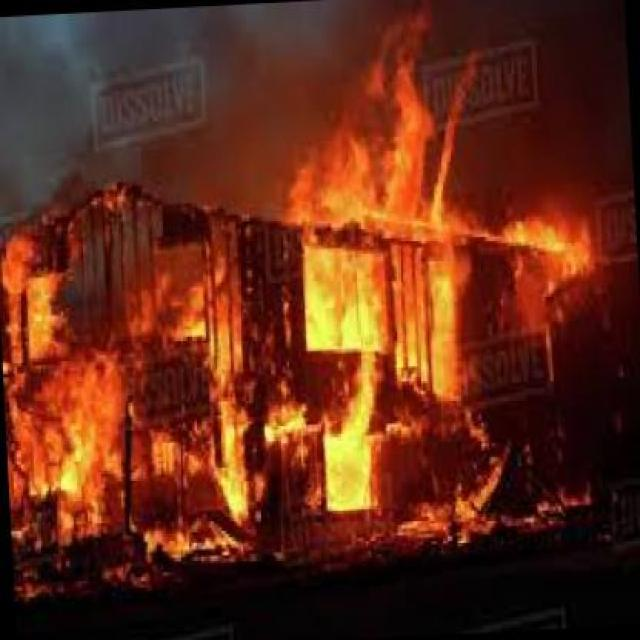Fire: (290, 12, 468, 534), (4, 179, 253, 544), (496, 207, 604, 317)
Smoke: (18, 18, 270, 174), (478, 10, 632, 193)
